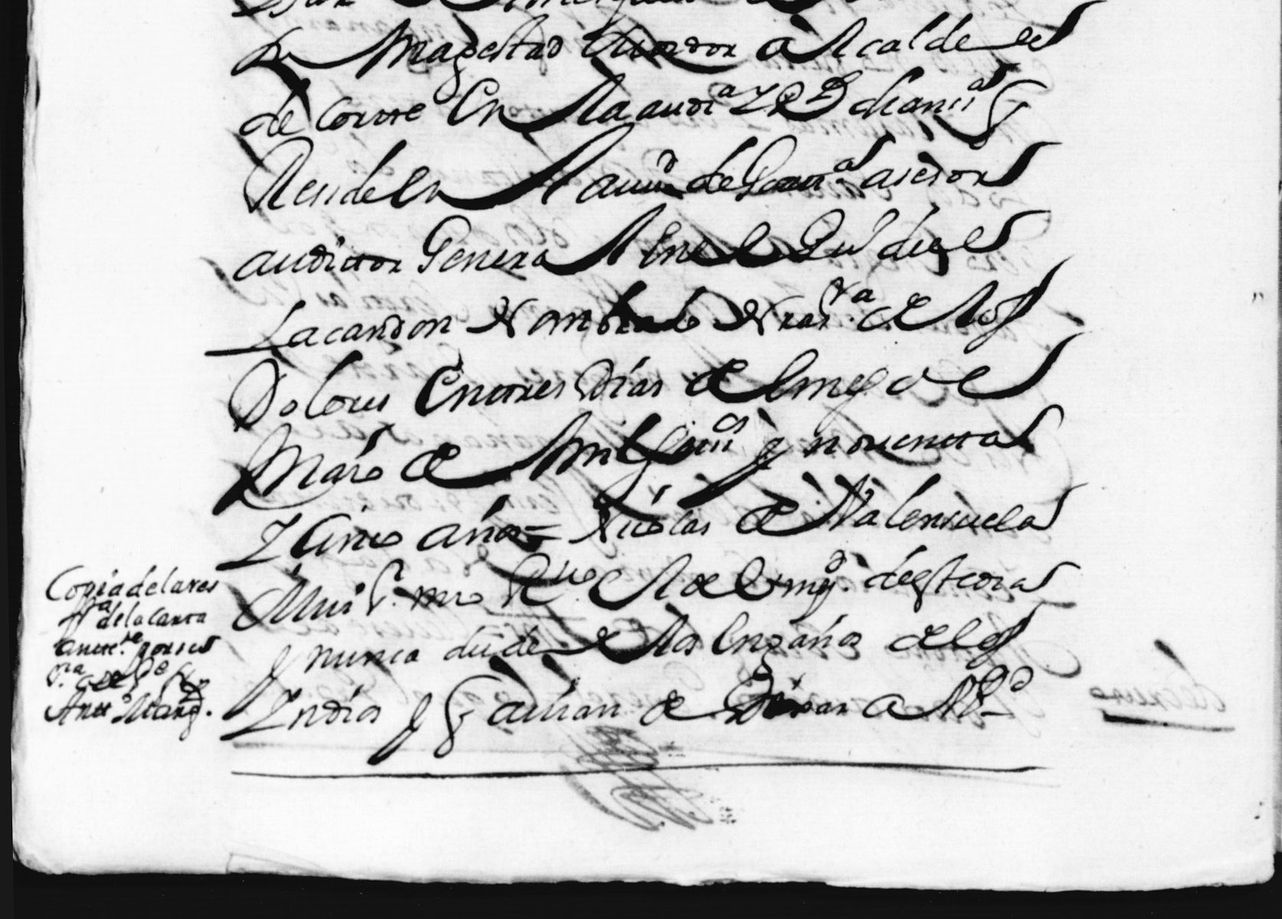lacandon: (204, 299, 452, 356)
